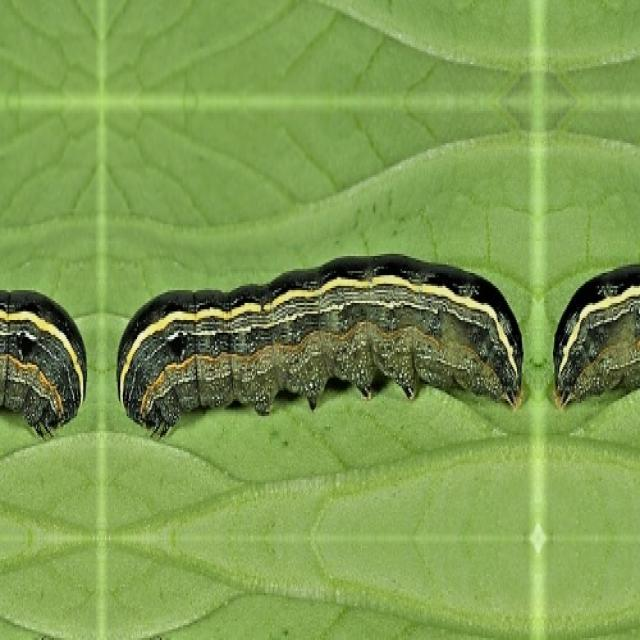armyworm: (115, 250, 524, 440), (0, 286, 87, 439), (552, 260, 638, 408)
